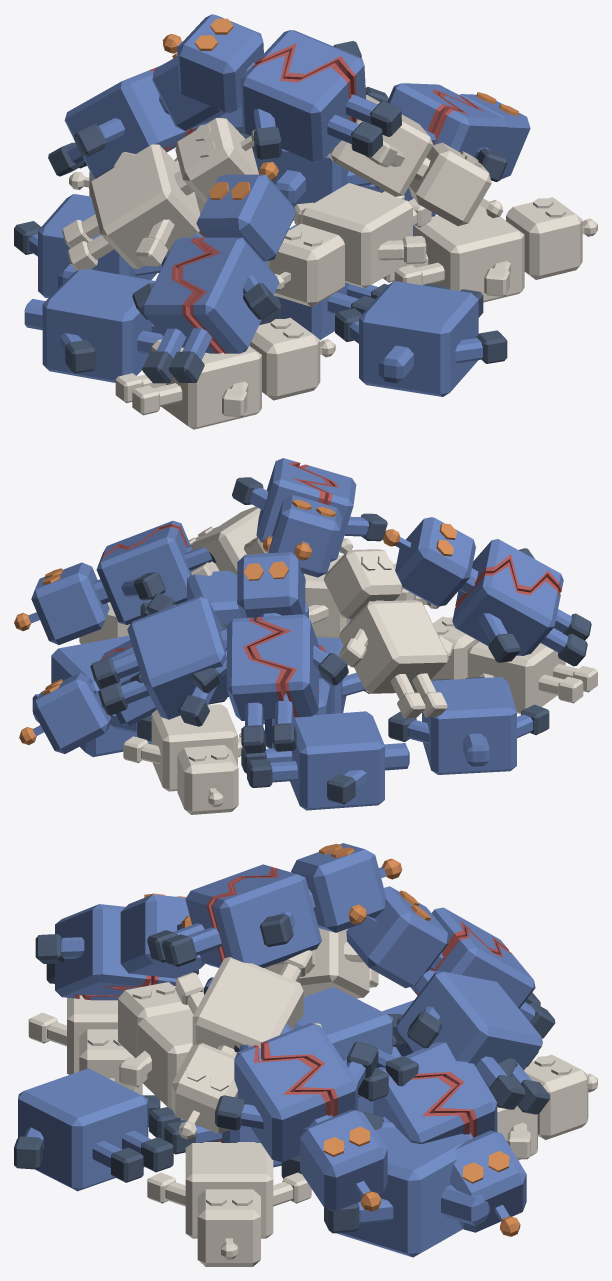
The model's file is RobotMountain.fbx.
3 views of the same model, one above another, from view 1: azimuth 30°, elevation 25°; view 2: azimuth 150°, elevation 25°; view 3: azimuth 270°, elevation 25° (orthographic). The views are drawn at different scales.
Visible parts, largest first — view 1: RobotMountain; view 2: RobotMountain; view 3: RobotMountain.
Part boxes in pixels (x1=…): RobotMountain: x1=14, y1=14, x2=597, y2=429; RobotMountain: x1=14, y1=458, x2=597, y2=814; RobotMountain: x1=14, y1=843, x2=597, y2=1266.
Bounding box in the file's own units: 115 × 58.11 × 106.
